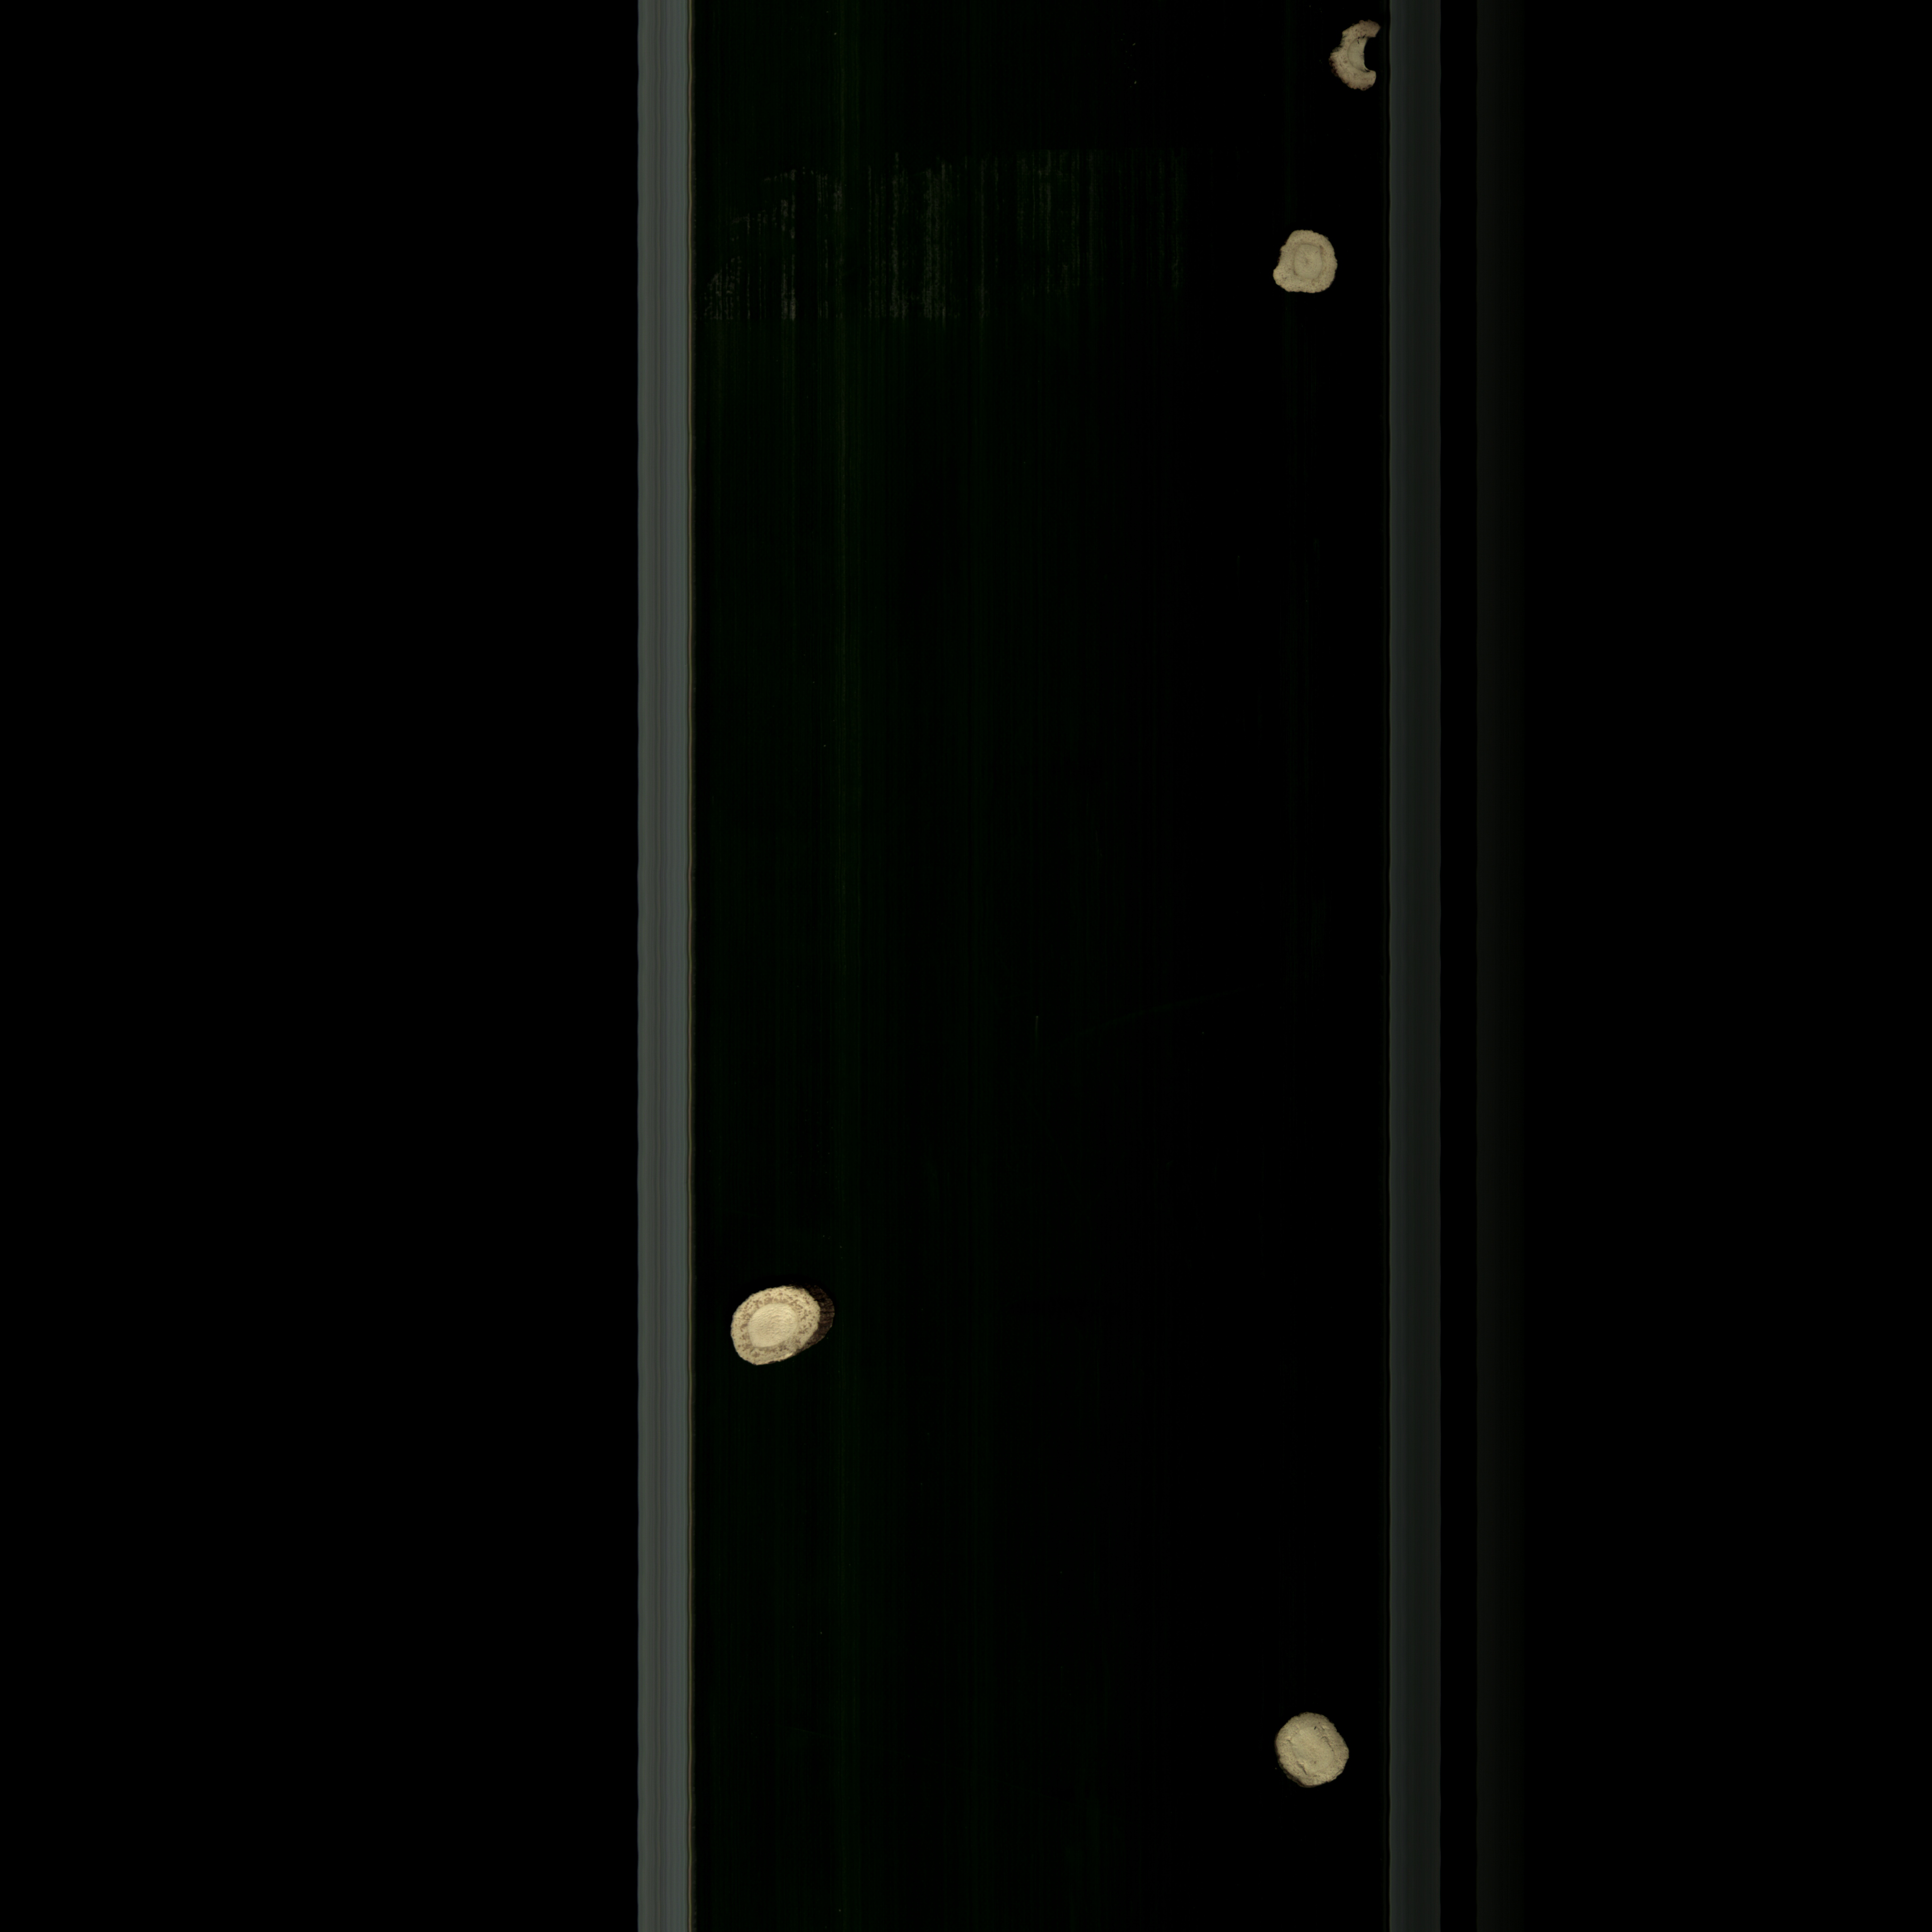distortion: (1263, 223, 1348, 308)
moldy: (1320, 16, 1385, 103)
